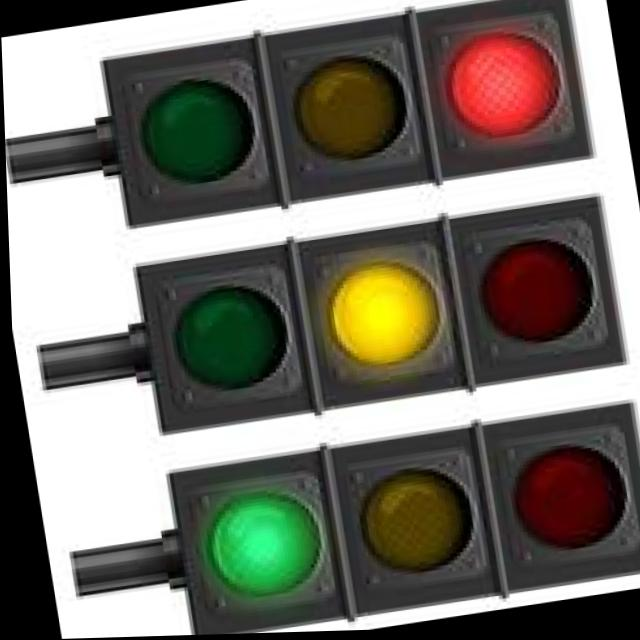green_light: (155, 419, 343, 637)
red_light: (402, 0, 605, 209)
yellow_light: (315, 214, 468, 417)
